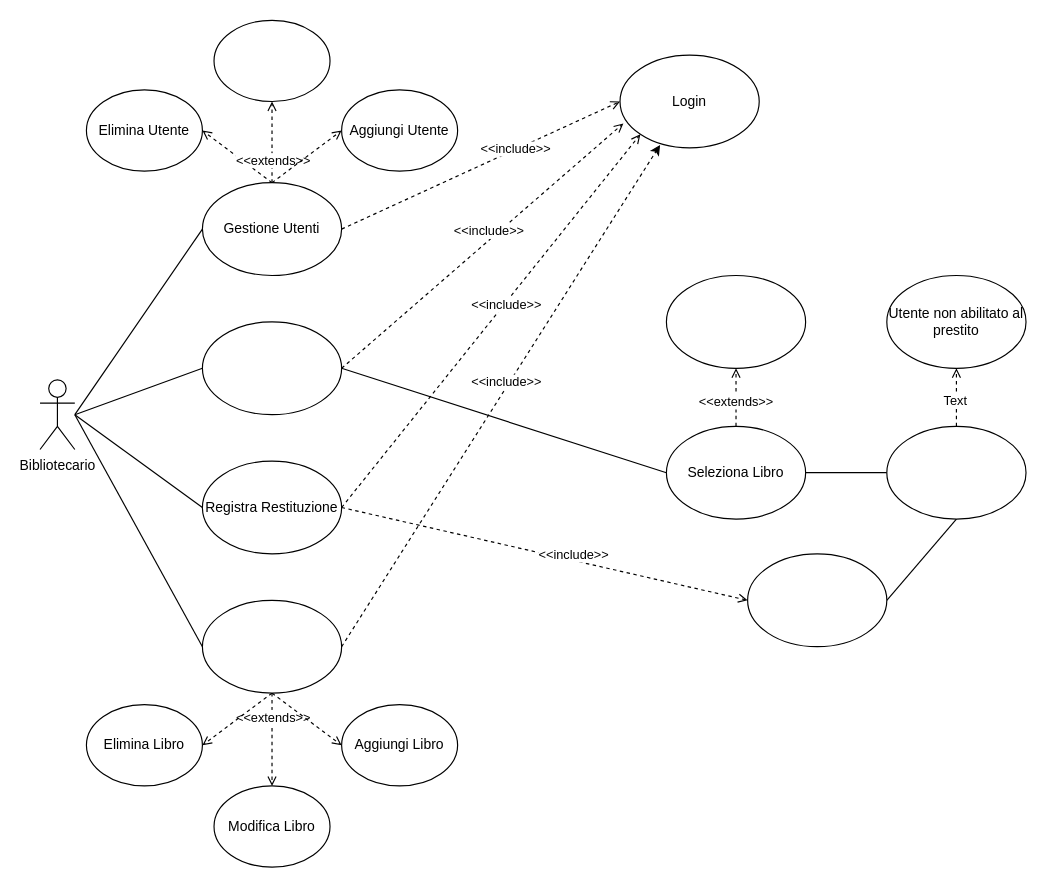
This 1046x887 diagram has some shape labels left out. Each missing label, with the box of its shape:
Libro non disponibile: (665, 274, 806, 368)
Modifica libri: (201, 599, 342, 693)
Modifica Utente: (213, 19, 330, 102)
Prestito Registrato: (746, 553, 887, 647)
Registra Prestito: (201, 321, 342, 415)
Seleziona Utente: (886, 425, 1026, 519)
